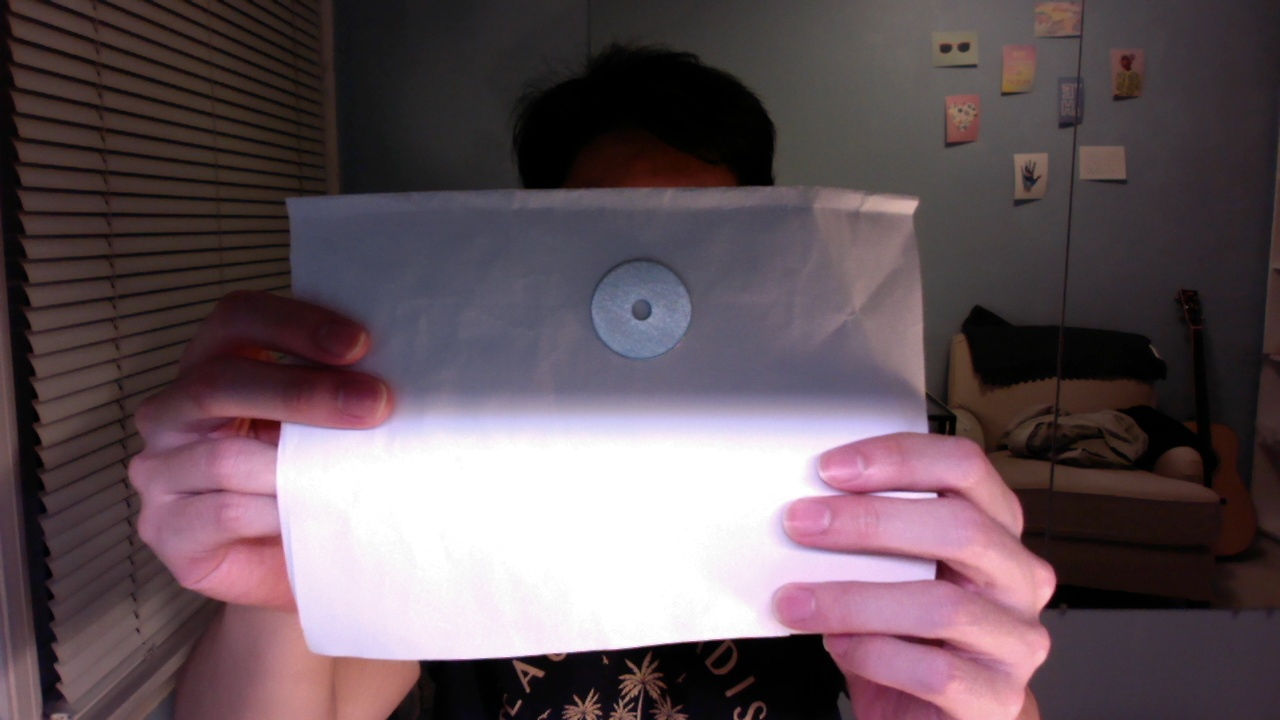NonDetectiveWashers: (586, 256, 694, 359)
